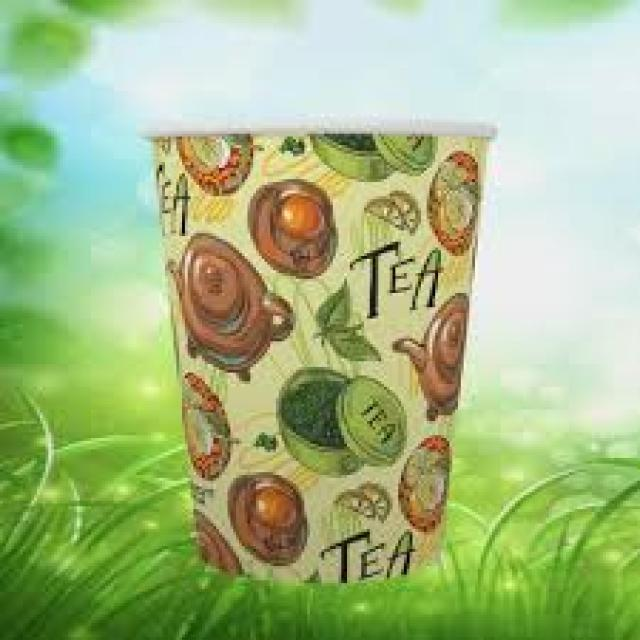PaperCardboard: (124, 113, 499, 590)
